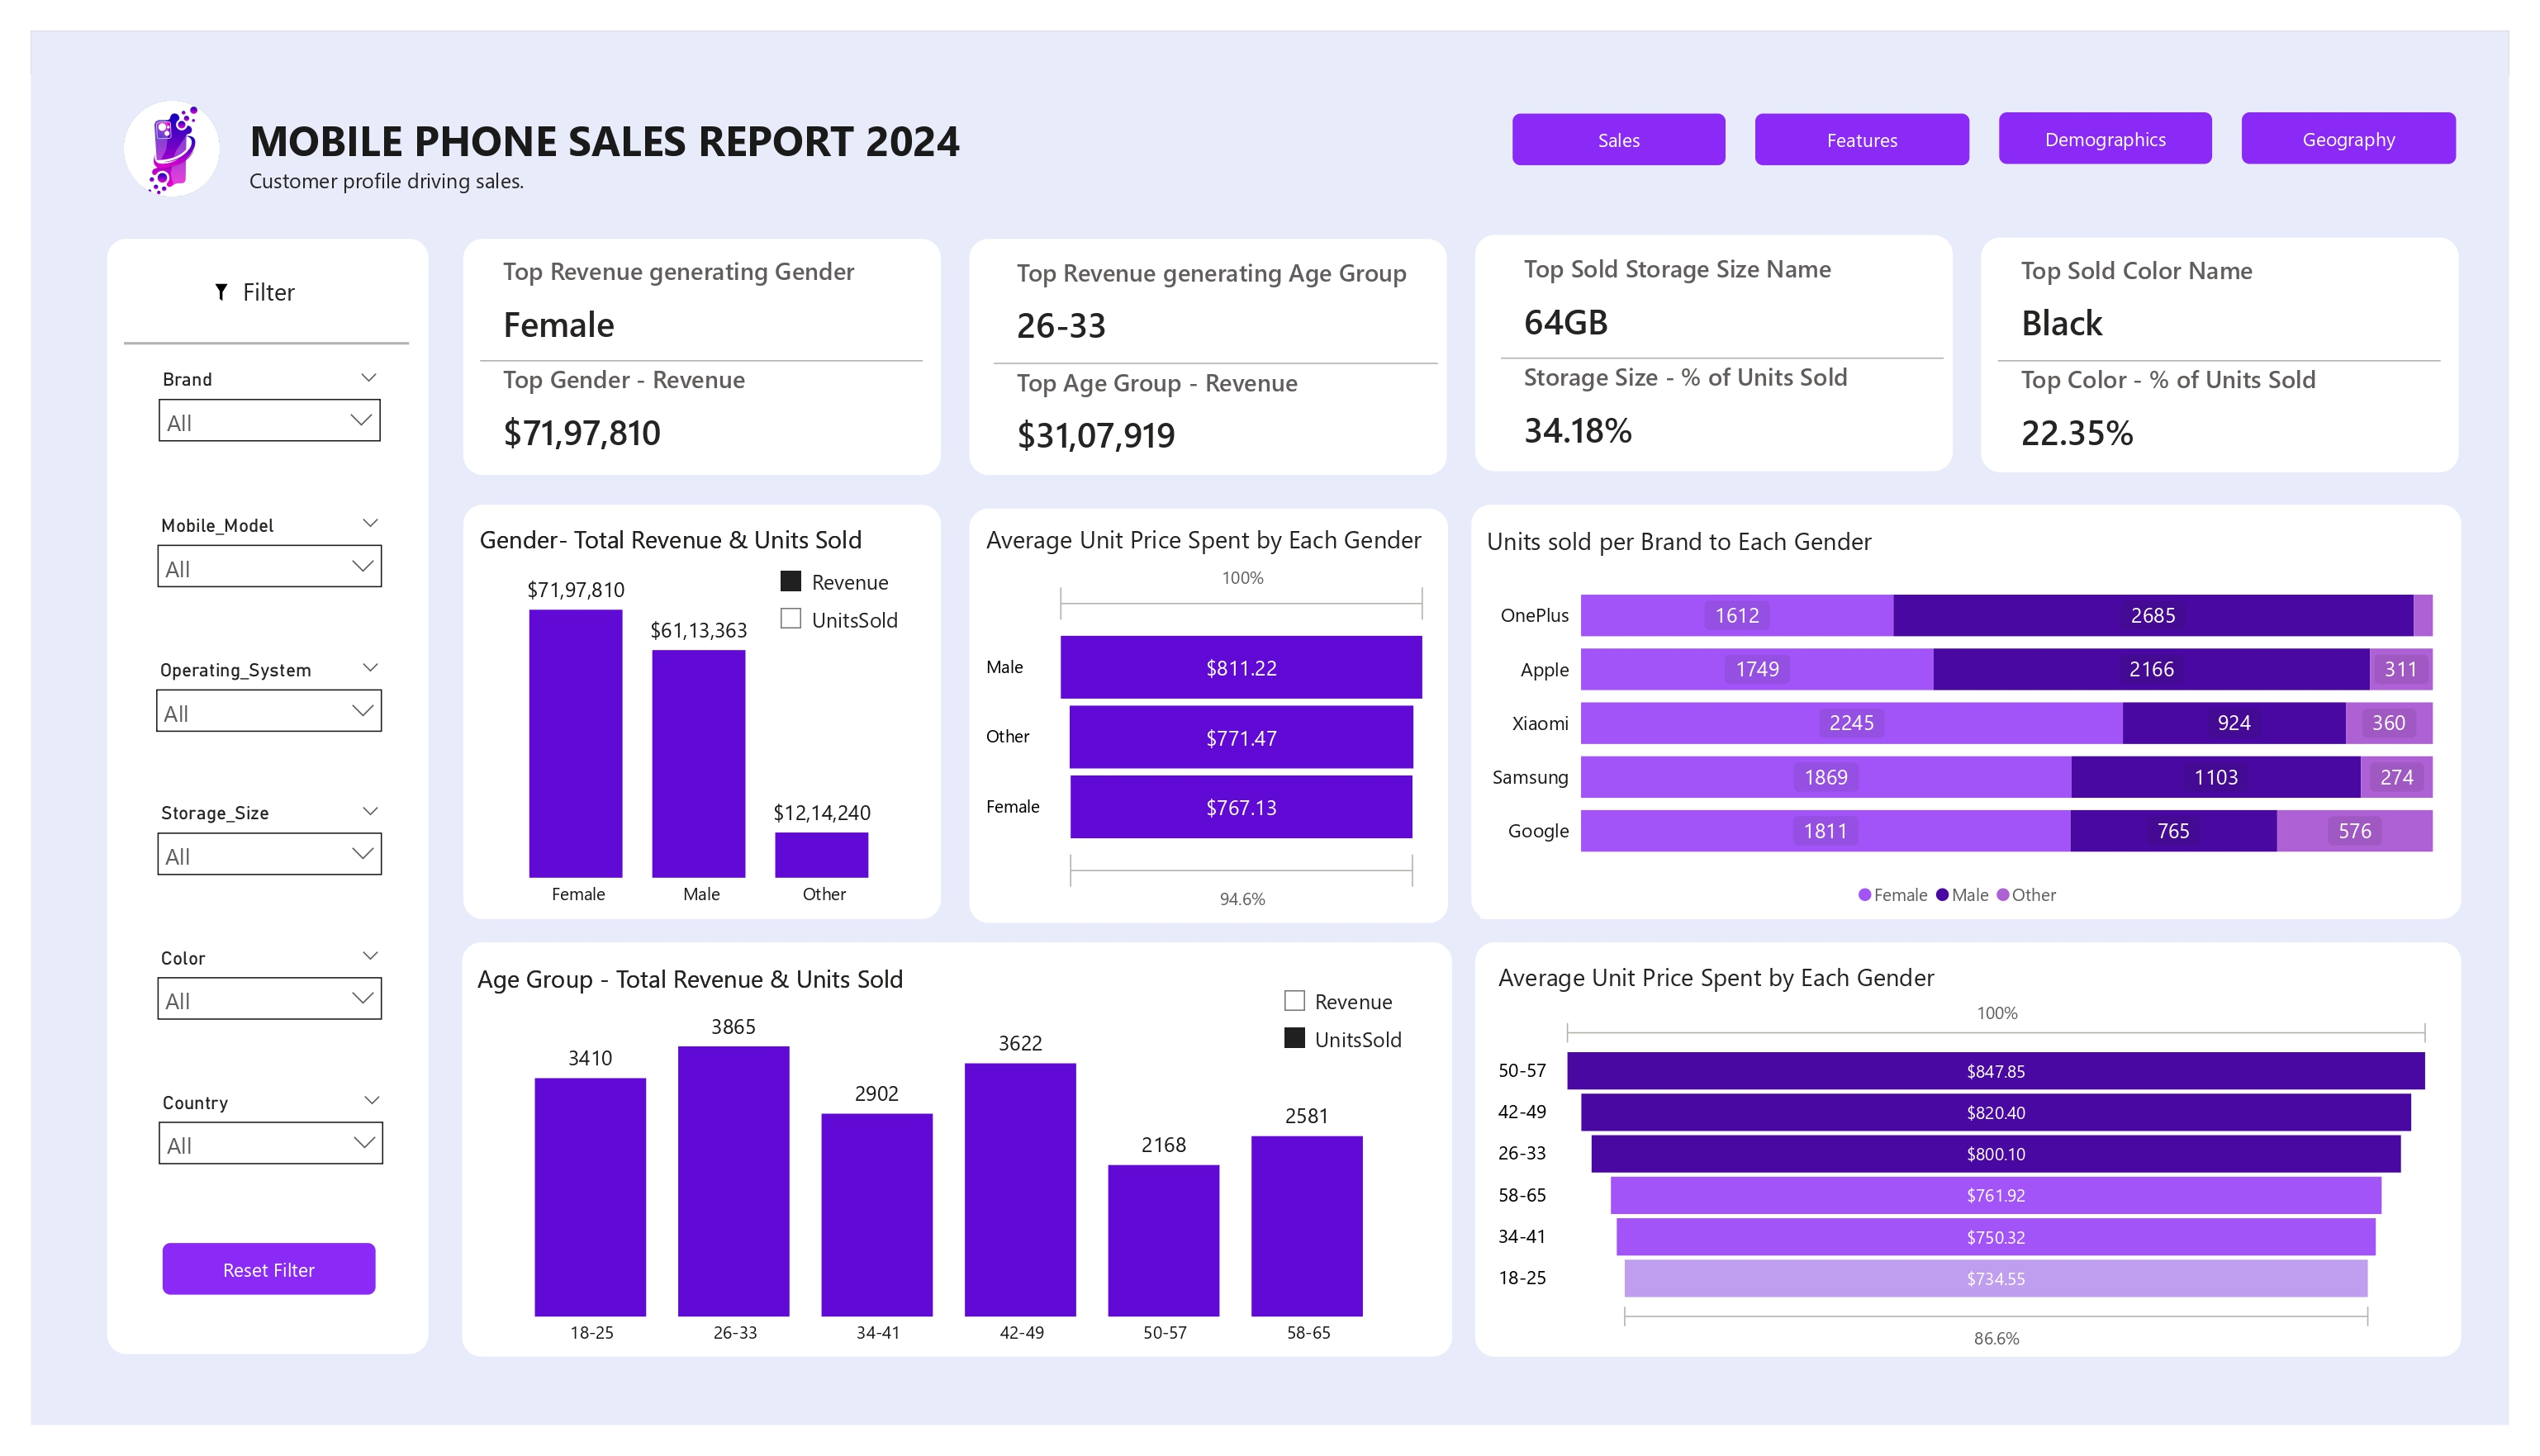

What the dashboard file says about the page in this screenshot:
{"tool":"powerbi","page":{"name":"Demographics","canvas":[1920,1080],"ordinal":2},"visuals":[{"type":"textbox","title":"Filter","box":[334.9,367.1,370.5,320.7],"z":0},{"type":"textbox","title":"Filter","box":[58.7,161.3,249.3,864],"z":1000},{"type":"shape","box":[72,166.7,221.3,150.7],"z":3000},{"type":"clusteredColumnChart","title":"Gender- Total Revenue & Units Sold","fields":{"Category":["Fact_Sales.Customer_Gender"],"Y":["Toggle_Table.UnitsSold_Gender"]},"box":[342.7,380.8,353,306.1],"z":3500},{"type":"textbox","box":[164,57,616,76],"z":4000,"group":"g1"},{"type":"textbox","title":"Filter","box":[334.7,161.3,370.7,182.7],"z":4000},{"type":"slicer","fields":{"Values":["Dim_Products.Brand"]},"box":[88.5,257.2,192.9,71.8],"z":5000},{"type":"slicer","fields":{"Values":["Dim_Products.Operating_System"]},"box":[87.4,481.7,194.2,70.5],"z":6000},{"type":"slicer","fields":{"Values":["Dim_Products.Storage_Size"]},"box":[87.9,593.3,193.7,70.5],"z":7000},{"type":"slicer","fields":{"Values":["Dim_Products.Color"]},"box":[87.9,705,193.7,70.5],"z":8000},{"type":"slicer","fields":{"Values":["Dim_Products.Mobile_Model"]},"box":[87.9,370.1,193.7,70.5],"z":9000},{"type":"slicer","fields":{"Values":["Dim_Locations.Country"]},"box":[88.5,816.6,194.2,70],"z":10000},{"type":"actionButton","box":[102.4,939,164.9,39.9],"z":13000},{"type":"cardVisual","fields":{"Data":["Fact_Sales.Top Revenue generating Gender","Fact_Sales.Top Gender - Revenue"]},"box":[342.7,166.7,353.3,177.3],"z":15000},{"type":"group","id":"g1","title":"Group 1","box":[164,57,616,76],"z":16000},{"type":"textbox","title":"Filter","box":[726.7,161.3,370.7,182.7],"z":17000},{"type":"cardVisual","fields":{"Data":["Fact_Sales.Top Revenue generating Age Group","Fact_Sales.Top Age Group - Revenue"]},"box":[741.3,168,353.3,178.7],"z":18000},{"type":"textbox","title":"Filter","box":[1118.7,158.2,370.7,182.7],"z":19000},{"type":"cardVisual","fields":{"Data":["Dim_Products.Top Sold Storage Size Name","Dim_Products.Top Sold Storage Size"]},"box":[1133.6,164.8,353.3,178.7],"z":20000},{"type":"textbox","title":"Filter","box":[1510.7,159.6,370.7,182.7],"z":21000},{"type":"cardVisual","fields":{"Data":["Dim_Products.Top Sold Color Name","Dim_Products.Top Sold Color"]},"box":[1518.7,166.3,353.3,178.7],"z":22000},{"type":"textbox","title":"Filter","box":[333.9,705.9,767.4,320.7],"z":23000},{"type":"textbox","title":"Filter","box":[727.1,369.8,370.5,320.7],"z":24000},{"type":"clusteredColumnChart","title":"Age Group - Total Revenue & Units Sold","fields":{"Category":["Fact_Sales.Customer_Age_Group"],"Y":["Toggle_Table.UnitsSold_AgeGroup"]},"box":[341.2,720.5,742.5,306.1],"z":25000},{"type":"clusteredColumnChart","title":"Age Group - Total Revenue & Units Sold","fields":{"Category":["Fact_Sales.Customer_Age_Group"],"Y":["Toggle_Table.Revenue_AgeGroup"]},"box":[341.2,720.5,742.5,306.1],"z":26000},{"type":"slicer","fields":{"Values":["Toggle_Table.ViewBy"]},"box":[957.8,732.3,125.9,71.8],"z":27000},{"type":"funnel","title":"Average Unit Price Spent by Each Gender","fields":{"Y":["Avg(Fact_Sales.Price)"],"Category":["Fact_Sales.Customer_Gender"]},"box":[734.7,381.3,353.3,306.7],"z":29000},{"type":"textbox","title":"Filter","box":[1118.9,705.9,764.5,320.7],"z":30000},{"type":"funnel","title":"Average Unit Price Spent by Each Gender","fields":{"Y":["Avg(Fact_Sales.Price)"],"Category":["Fact_Sales.Customer_Age_Group"]},"box":[1132,720,733.3,306.7],"z":31000},{"type":"textbox","title":"Filter","box":[1115.7,367.3,767.4,320.7],"z":32000},{"type":"hundredPercentStackedBarChart","title":"Units sold per Brand to Each Gender","fields":{"Category":["Dim_Products.Brand"],"Series":["Fact_Sales.Customer_Gender"],"Y":["Sum(Fact_Sales.Units_Sold)"]},"box":[1123,382,742.5,306.1],"z":33000},{"type":"clusteredColumnChart","title":"Gender- Total Revenue & Units Sold","fields":{"Category":["Fact_Sales.Customer_Gender"],"Y":["Toggle_Table.Revenue_Gender"]},"box":[342.7,380.8,353,306.1],"z":33750},{"type":"slicer","fields":{"Values":["Toggle_Table.ViewBy"]},"box":[568.2,407.1,115.7,74.7],"z":35000},{"type":"actionButton","box":[1524.9,62.7,165.3,40],"z":35001},{"type":"actionButton","box":[1148,64,165.3,40],"z":35002},{"type":"actionButton","box":[1713.3,62.7,165.3,40],"z":35003},{"type":"actionButton","box":[1336.4,64,165.3,40],"z":35004},{"type":"image","box":[0,49.3,217.3,84],"z":35005},{"type":"image","box":[109.3,189.3,76,26.7],"z":35006}]}

Visuals, with their boxes on the page's 1920x1080 design canvas (x1, y1, x2, y2). These are canvas units, not pixel positions in the 2540x1456 screenshot, which may show the page scaled, cropped or inside an application window:
"Filter" textbox: [335,367,705,688]
"Filter" textbox: [59,161,308,1025]
shape: [72,167,293,317]
"Gender- Total Revenue & Units Sold" clusteredColumnChart: [343,381,696,687]
textbox: [164,57,780,133]
"Filter" textbox: [335,161,705,344]
slicer - Dim_Products.Brand: [88,257,281,329]
slicer - Dim_Products.Operating_System: [87,482,282,552]
slicer - Dim_Products.Storage_Size: [88,593,282,664]
slicer - Dim_Products.Color: [88,705,282,776]
slicer - Dim_Products.Mobile_Model: [88,370,282,441]
slicer - Dim_Locations.Country: [88,817,283,887]
actionButton: [102,939,267,979]
cardVisual - Fact_Sales.Top Revenue generating Gender x Fact_Sales.Top Gender - Revenue: [343,167,696,344]
"Group 1" group: [164,57,780,133]
"Filter" textbox: [727,161,1097,344]
cardVisual - Fact_Sales.Top Revenue generating Age Group x Fact_Sales.Top Age Group - Revenue: [741,168,1095,347]
"Filter" textbox: [1119,158,1489,341]
cardVisual - Dim_Products.Top Sold Storage Size Name x Dim_Products.Top Sold Storage Size: [1134,165,1487,344]
"Filter" textbox: [1511,160,1881,342]
cardVisual - Dim_Products.Top Sold Color Name x Dim_Products.Top Sold Color: [1519,166,1872,345]
"Filter" textbox: [334,706,1101,1027]
"Filter" textbox: [727,370,1098,690]
"Age Group - Total Revenue & Units Sold" clusteredColumnChart: [341,720,1084,1027]
"Age Group - Total Revenue & Units Sold" clusteredColumnChart: [341,720,1084,1027]
slicer - Toggle_Table.ViewBy: [958,732,1084,804]
"Average Unit Price Spent by Each Gender" funnel: [735,381,1088,688]
"Filter" textbox: [1119,706,1883,1027]
"Average Unit Price Spent by Each Gender" funnel: [1132,720,1865,1027]
"Filter" textbox: [1116,367,1883,688]
"Units sold per Brand to Each Gender" hundredPercentStackedBarChart: [1123,382,1866,688]
"Gender- Total Revenue & Units Sold" clusteredColumnChart: [343,381,696,687]
slicer - Toggle_Table.ViewBy: [568,407,684,482]
actionButton: [1525,63,1690,103]
actionButton: [1148,64,1313,104]
actionButton: [1713,63,1879,103]
actionButton: [1336,64,1502,104]
image: [0,49,217,133]
image: [109,189,185,216]
